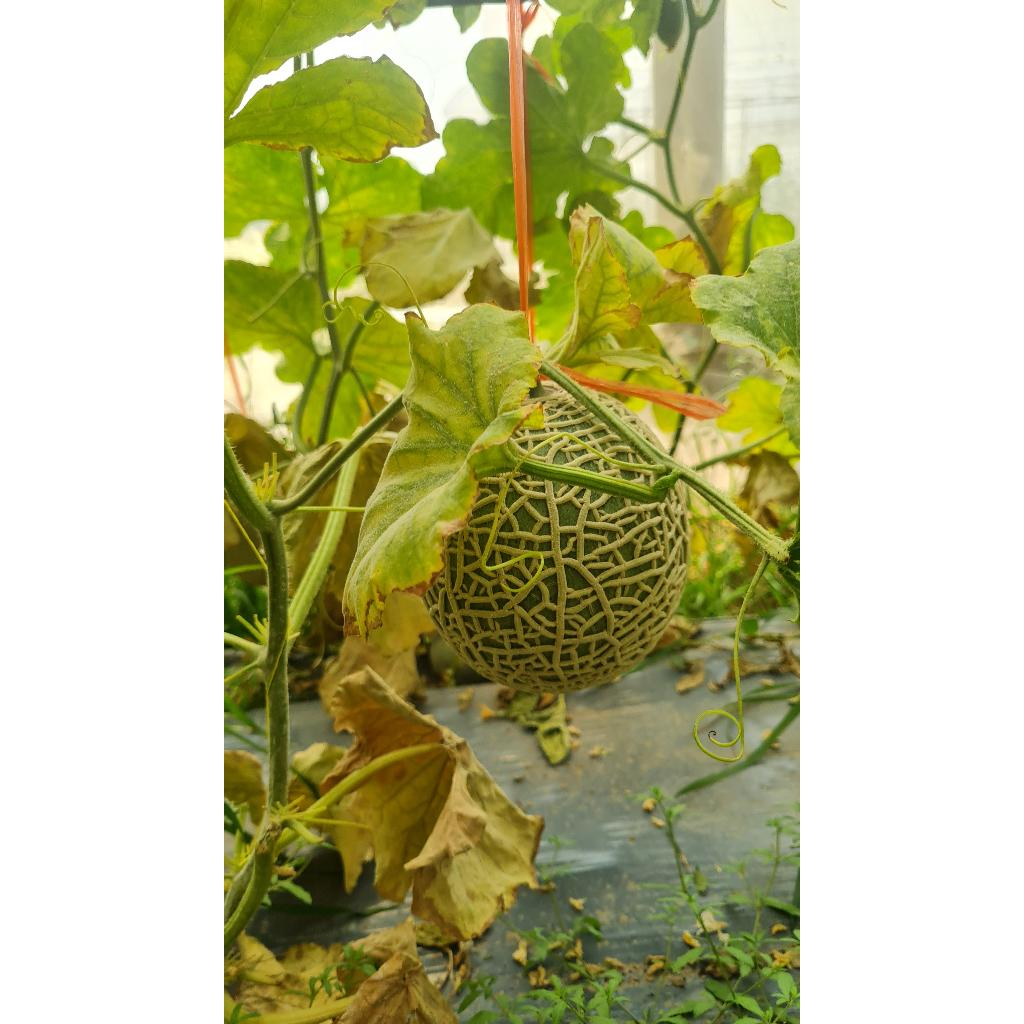melon: (424, 472, 688, 694), (514, 384, 654, 482)
